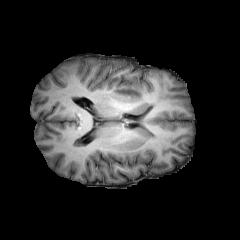glioma: (112, 72, 158, 159)
